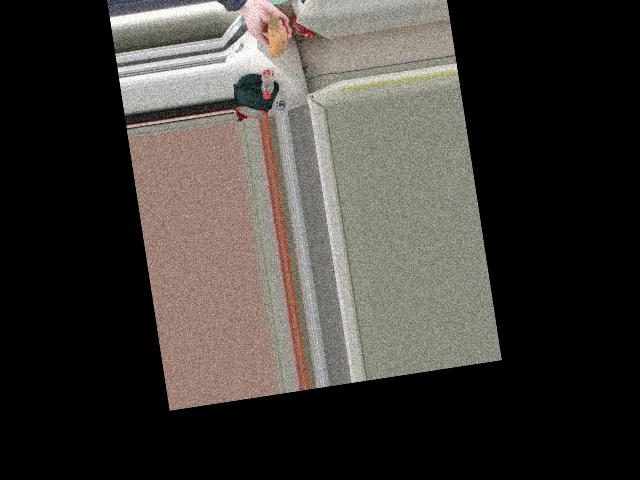sweet_potato: (265, 18, 289, 68)
